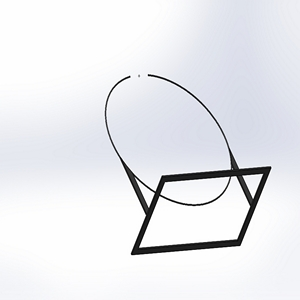circle: (102, 71, 271, 256)
